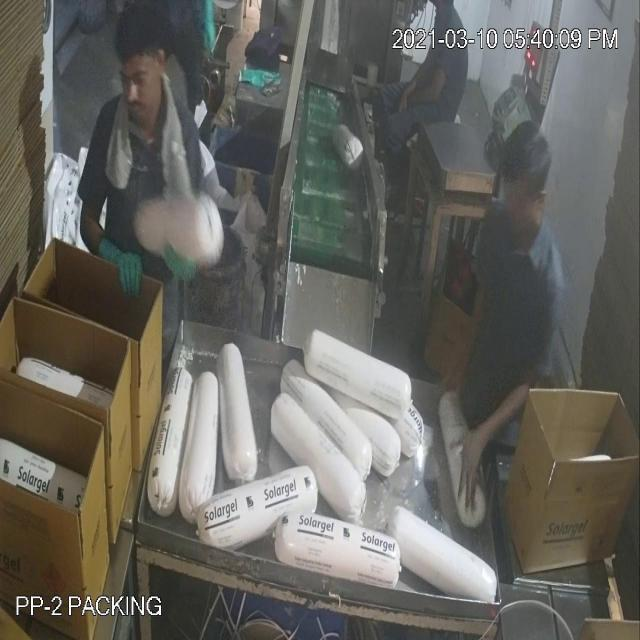No_Gloves: (53, 44, 495, 433)
